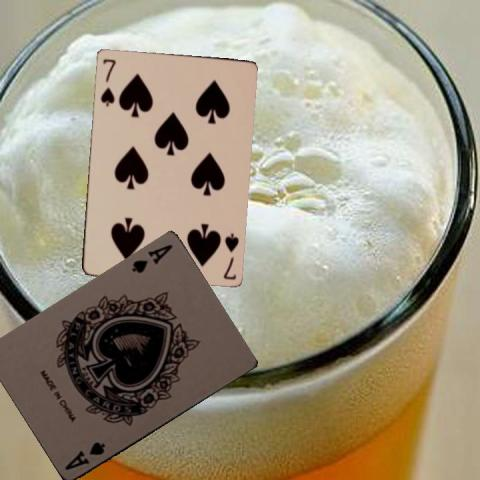7s: (97, 55, 117, 108), (220, 230, 240, 281)
As: (128, 242, 175, 276), (62, 438, 108, 472)
